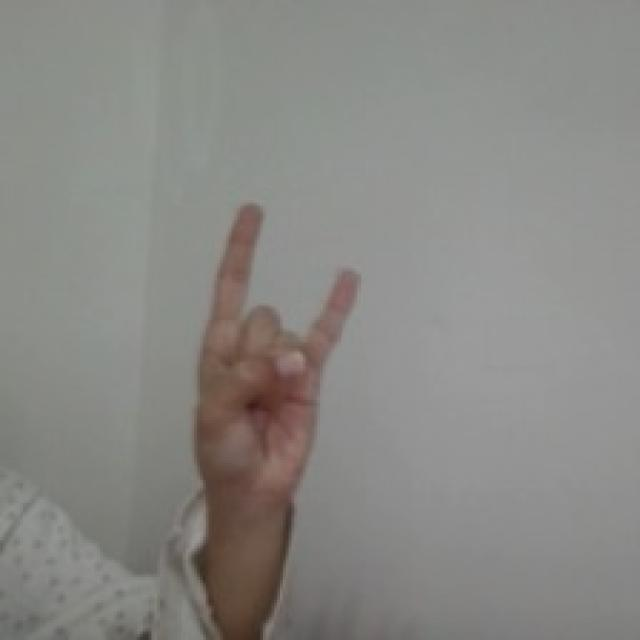No: (185, 195, 367, 510)
